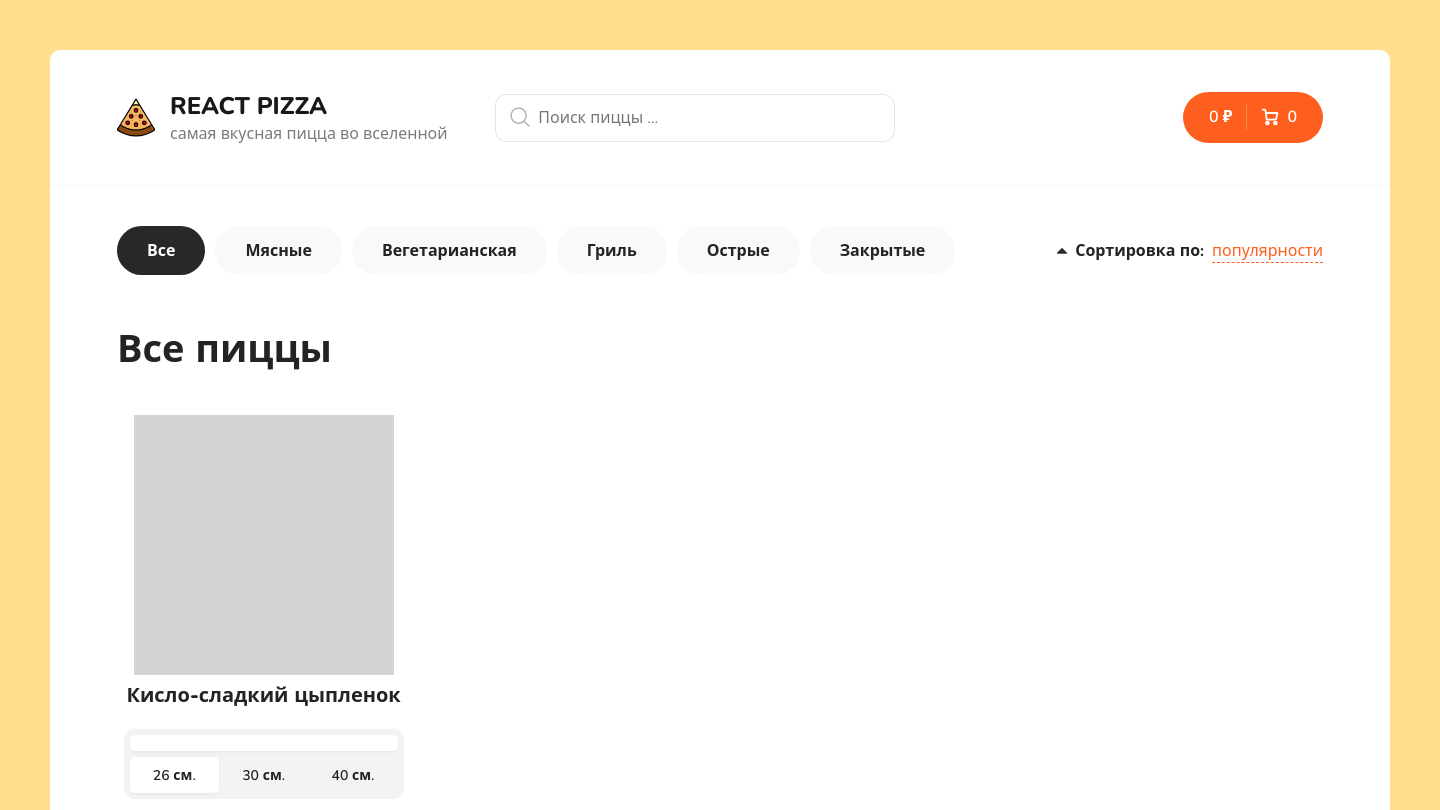
Test: routes test › test redirect to cart page
Expected: the heading "Все пиццы" is shown, [117,324,332,375]
Step 1. Click the link with test id "link-to-cart-page" → [1253, 118], box [1183,92,1323,143]
(page scrolled)
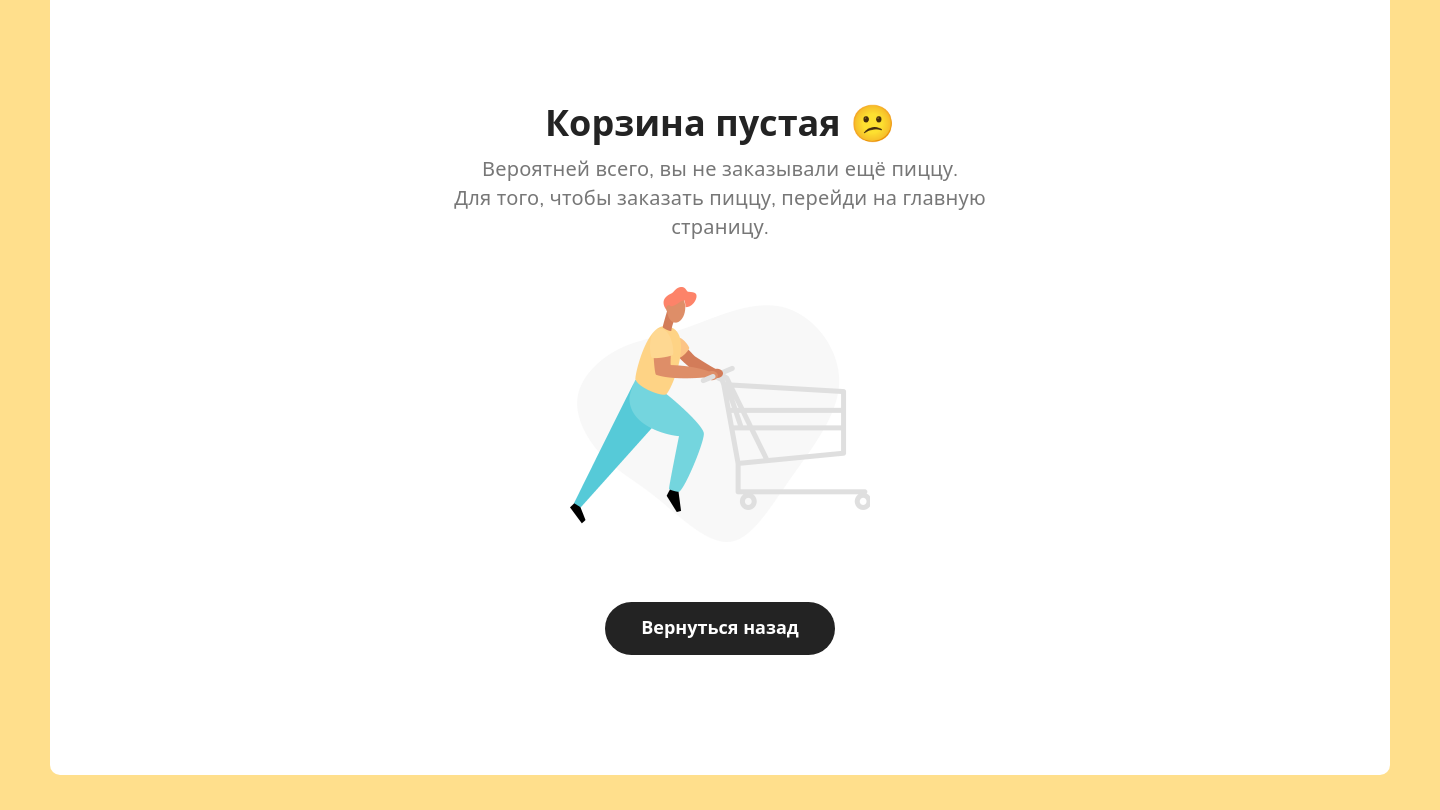
Expected: the element with test id "cart-empty" is shown, [410,110,1030,655]
